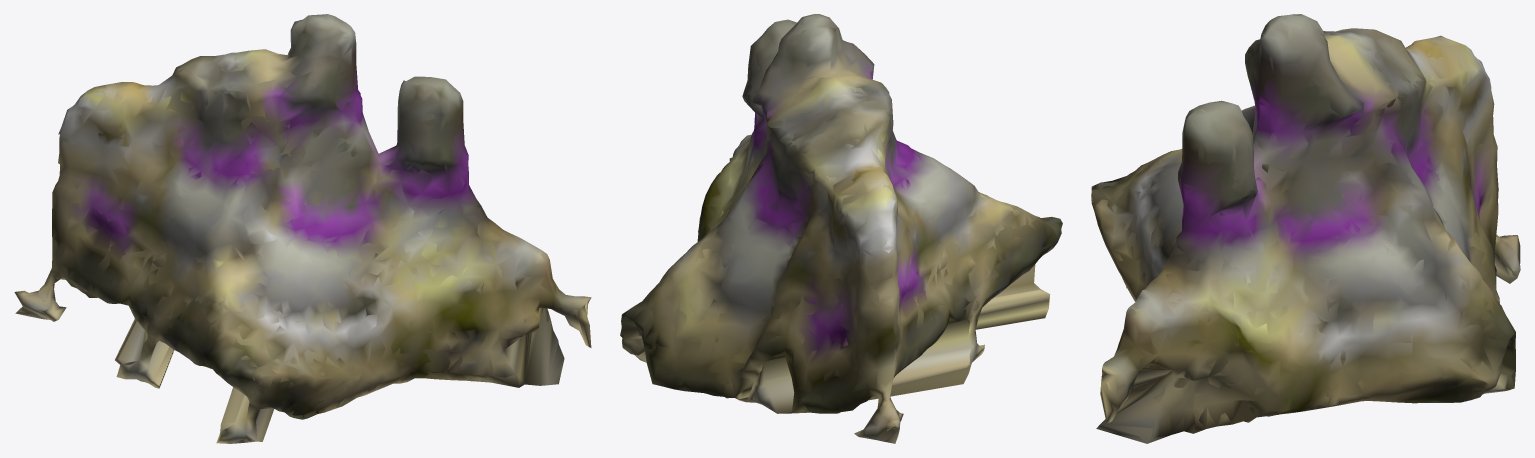
File: yuri_slave_refinery.glb
The picture shows the model from 3 angles, left to right: view 1: azimuth 30°, elevation 25°; view 2: azimuth 150°, elevation 25°; view 3: azimuth 270°, elevation 25°; orthographic projection. The views are drawn at different scales.
Parts seen in each view (by area): view 1: yuri_slave_refinery; view 2: yuri_slave_refinery; view 3: yuri_slave_refinery.
Boxes of the visible parts, left/top/right/bottom form: yuri_slave_refinery: left=14, top=14, right=591, bottom=443; yuri_slave_refinery: left=620, top=14, right=1062, bottom=443; yuri_slave_refinery: left=1091, top=14, right=1520, bottom=443.
Bounding box in the file's own units: 1.62 × 1.36 × 1.56.
